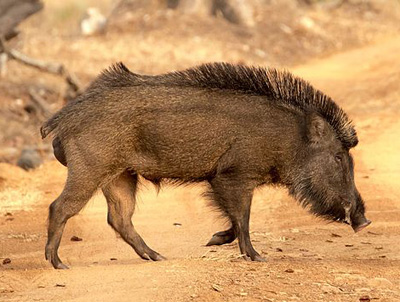wild boar: (33, 52, 378, 271)
